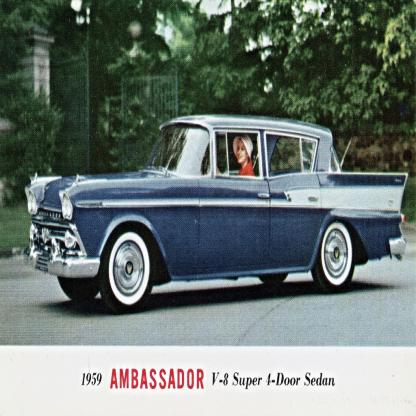Car: (26, 115, 410, 316)
